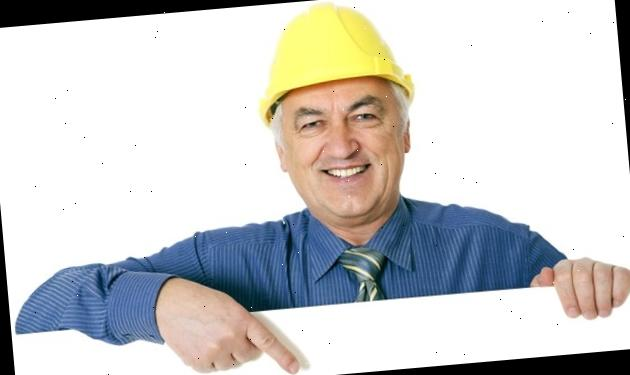helmet: (249, 0, 417, 125)
no_wear: (198, 195, 576, 316)
